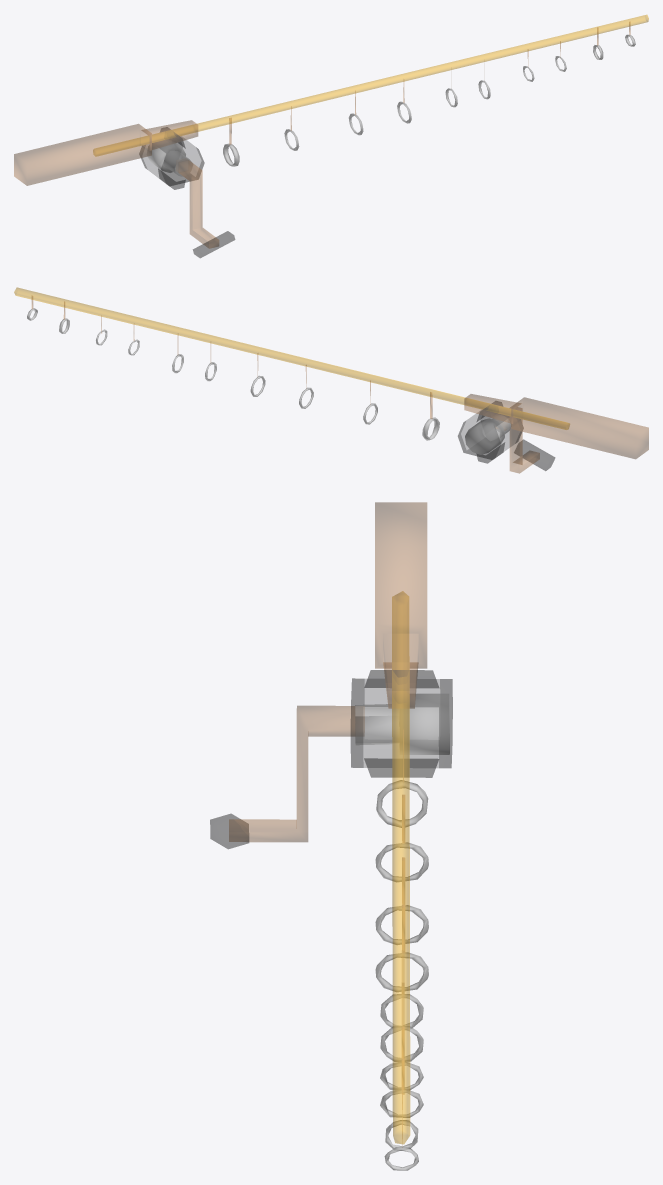
The model's file is fishingRod.gltf.
The picture shows the model from 3 angles, top to bottom: view 1: azimuth 30°, elevation 25°; view 2: azimuth 150°, elevation 25°; view 3: azimuth 270°, elevation 25°; orthographic projection. The views are drawn at different scales.
Visible parts, largest first — view 1: fishingRod; view 2: fishingRod; view 3: fishingRod.
Part boxes in pixels (box(x1,y1,x2,y2)): fishingRod: box(14, 15, 648, 257); fishingRod: box(14, 287, 648, 473); fishingRod: box(210, 502, 452, 1170).
Bounding box in the file's own units: 21.51 × 3.29 × 3.61.
